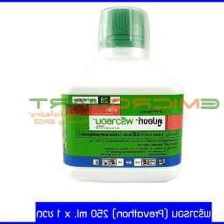insecticide: (58, 3, 187, 185)
